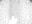person: (10, 17, 18, 23)
